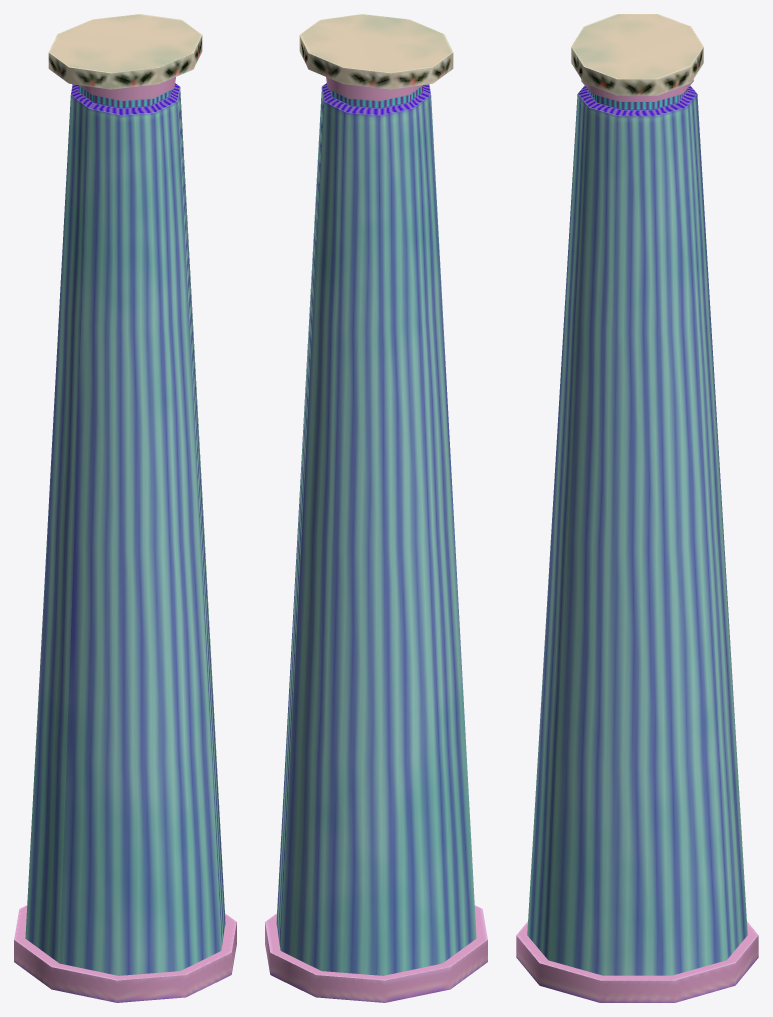
The model's file is Structure_Vapor_Column_02_Art.fbx.
The picture shows the model from 3 angles, left to right: view 1: azimuth 30°, elevation 25°; view 2: azimuth 150°, elevation 25°; view 3: azimuth 270°, elevation 25°; orthographic projection.
Visible parts, largest first — view 1: Structure_Vapor_Column_02_Art; view 2: Structure_Vapor_Column_02_Art; view 3: Structure_Vapor_Column_02_Art.
Part boxes in pixels (x1,y1,x2,y2): Structure_Vapor_Column_02_Art: (14, 14, 236, 1002); Structure_Vapor_Column_02_Art: (265, 14, 487, 1002); Structure_Vapor_Column_02_Art: (516, 14, 758, 1002).
Size of the model in its own units: 1.7 by 7.96 by 1.92.
